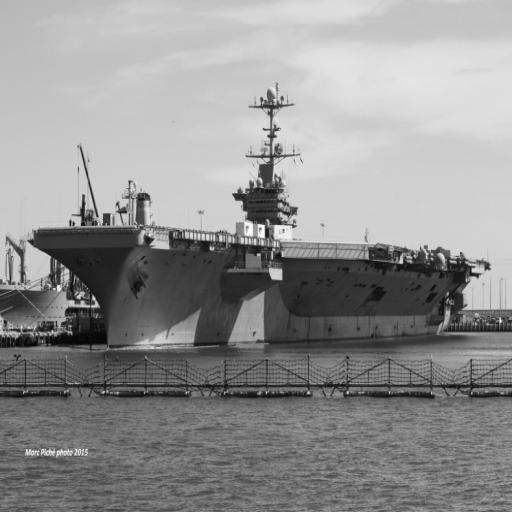Portanaves: (32, 83, 492, 360)
